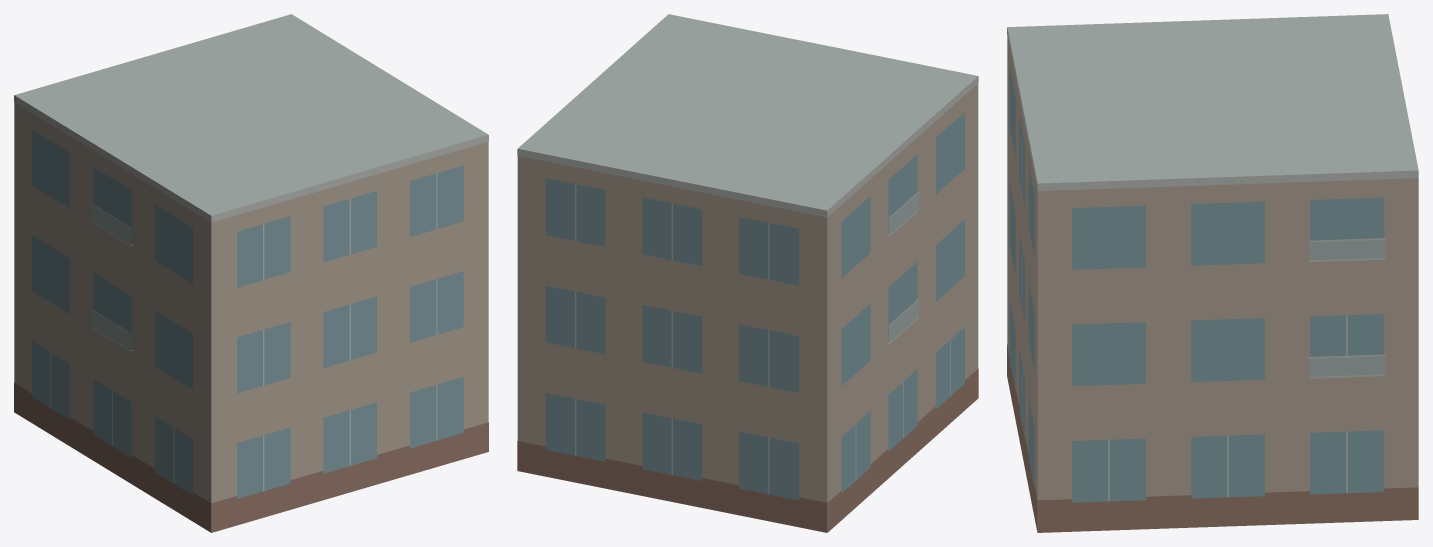
The model's file is survey-upis-32923461.glb.
3 renders of one model, left to right at view 1: azimuth 30°, elevation 25°; view 2: azimuth 150°, elevation 25°; view 3: azimuth 270°, elevation 25°, orthographic. The views are drawn at different scales.
Visible parts, largest first — view 1: survey-upis-32923461.tmp; view 2: survey-upis-32923461.tmp; view 3: survey-upis-32923461.tmp.
Boxes of the visible parts, <box> form: survey-upis-32923461.tmp: <box>14,14,488,532</box>; survey-upis-32923461.tmp: <box>517,14,978,532</box>; survey-upis-32923461.tmp: <box>1007,14,1418,532</box>.
Size of the model in its own units: 11.77 by 11.3 by 12.07.
